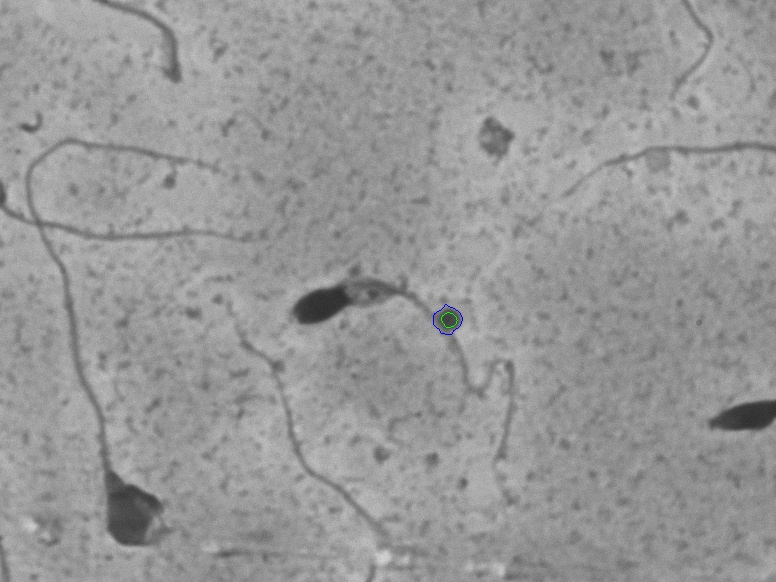Abnormal: (17, 245, 207, 555), (294, 240, 527, 480)
